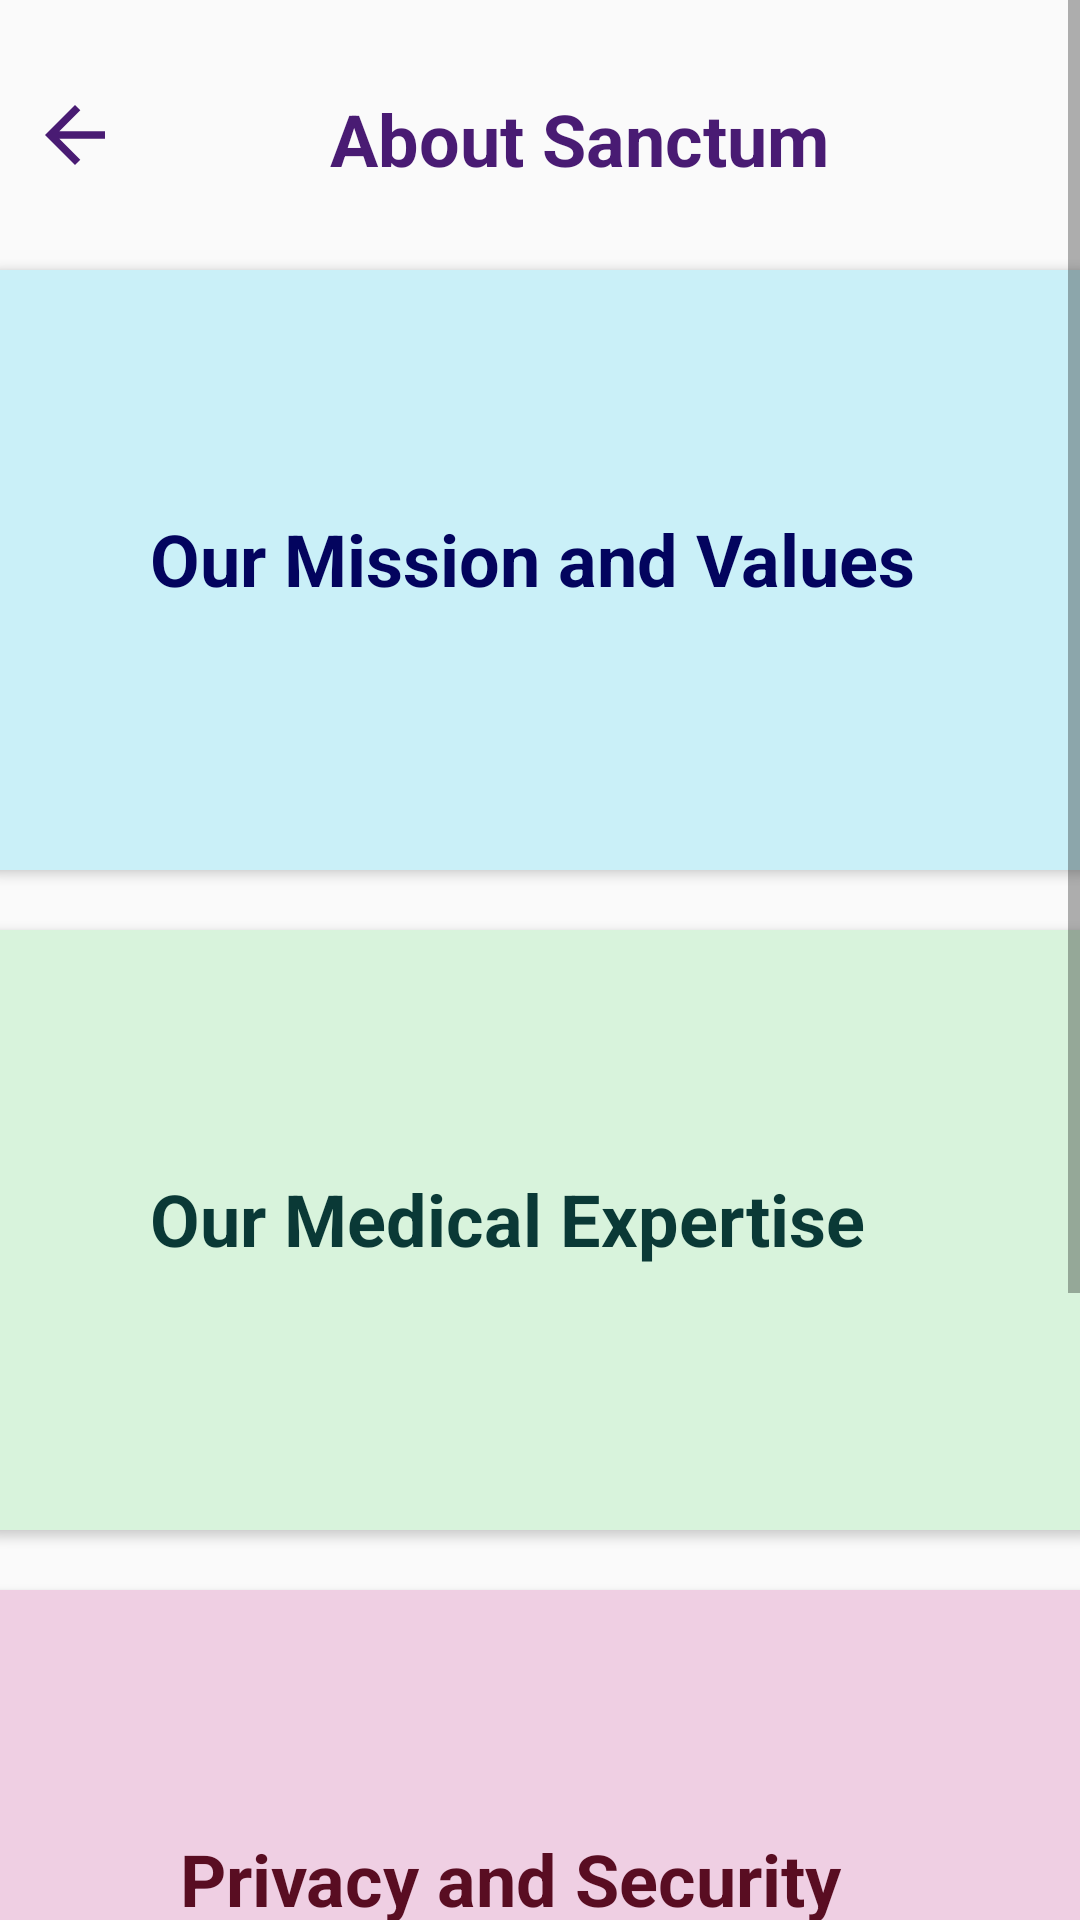

Icon bounding boxes for this 1080w x 1920h phone screenshot, format (x1, y1, x2, y2):
arrow back: (45, 105, 105, 165)
